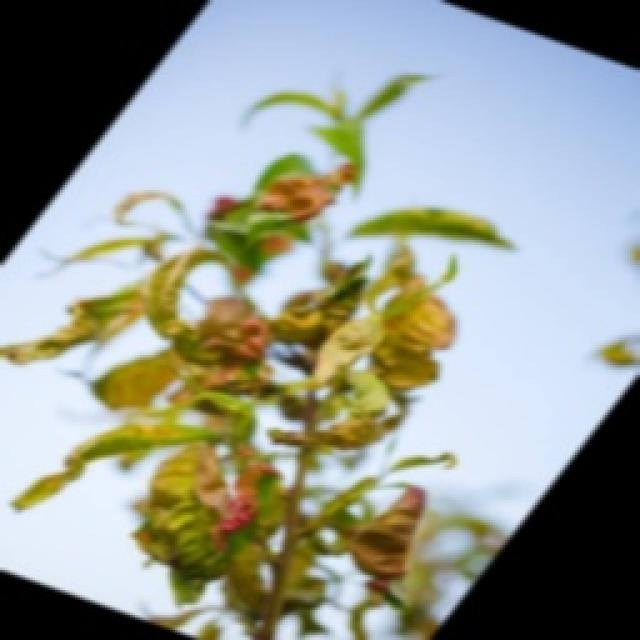Chlorosis: (0, 68, 515, 638)
